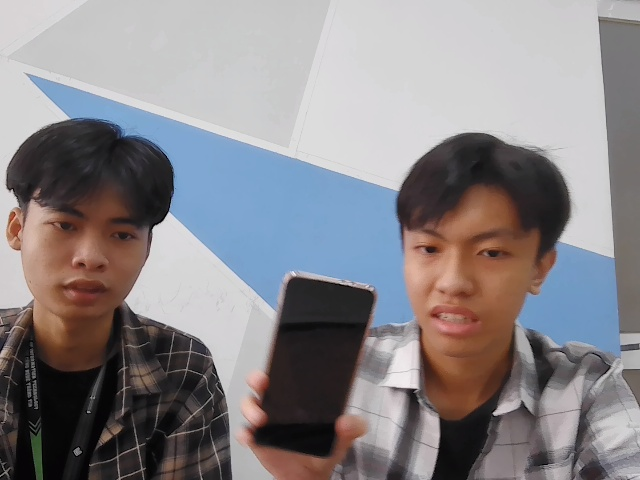human: (403, 121, 573, 358), (2, 113, 182, 325)
phone: (250, 258, 377, 459)
